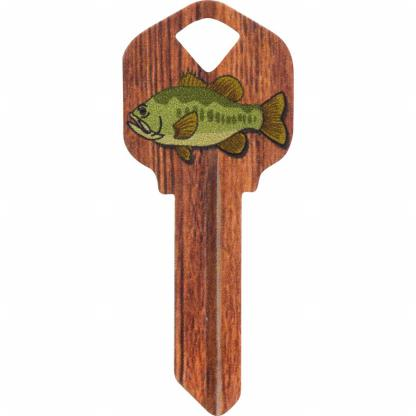key: (116, 1, 296, 414)
